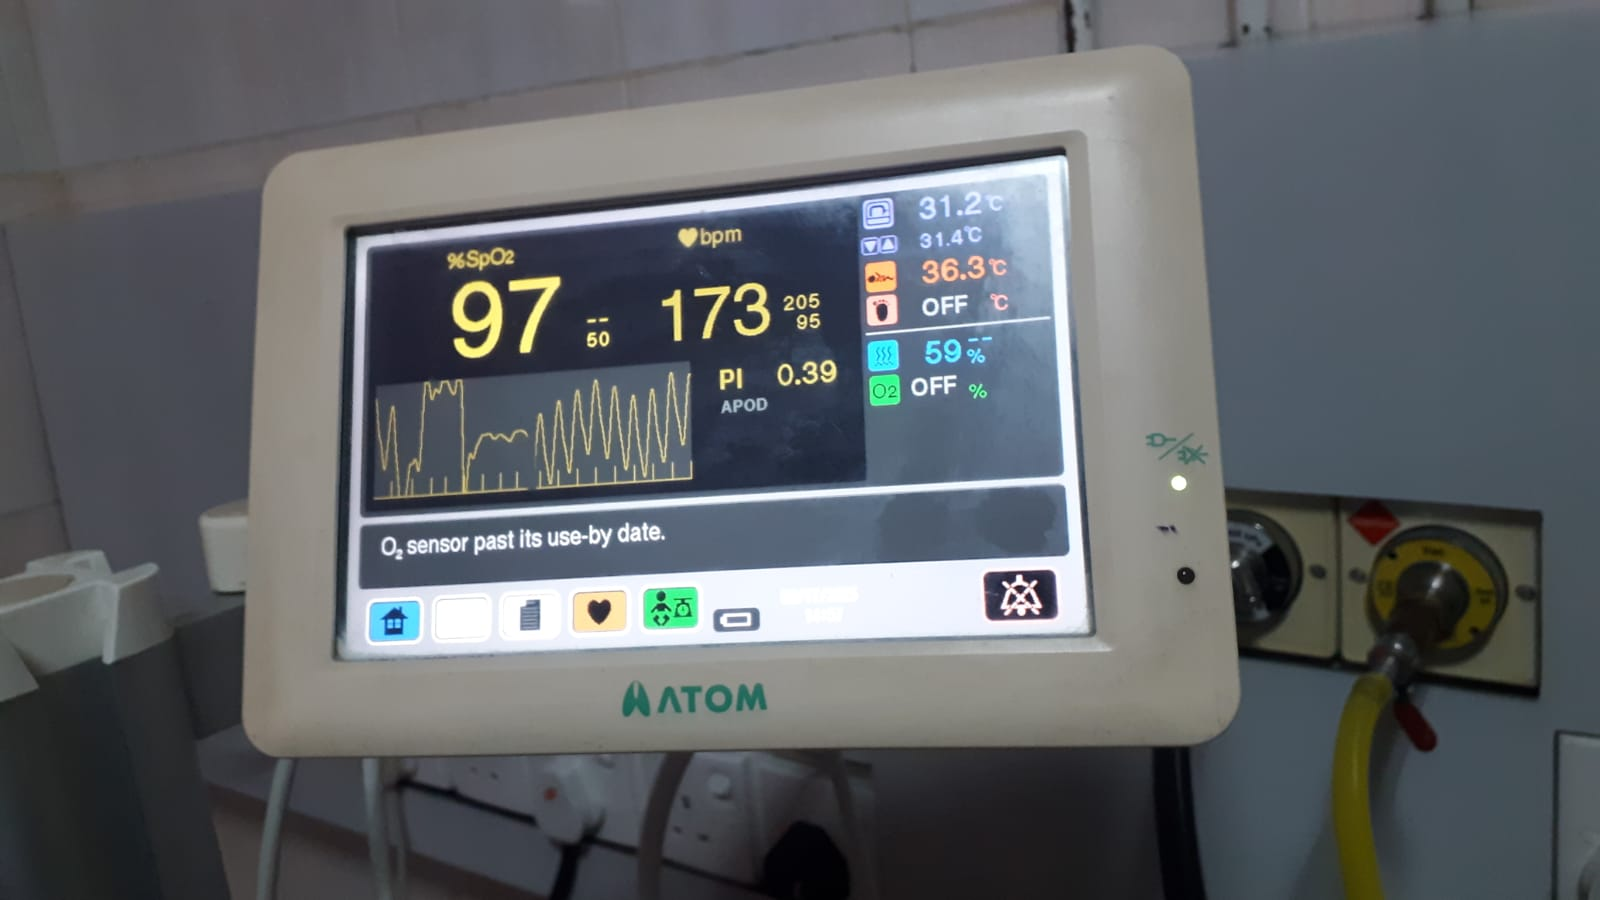heart_rate_value: (646, 269, 781, 352)
humidity_value: (912, 330, 967, 372)
skin_temp_value: (907, 250, 989, 288)
spo2_value: (442, 269, 568, 372)
